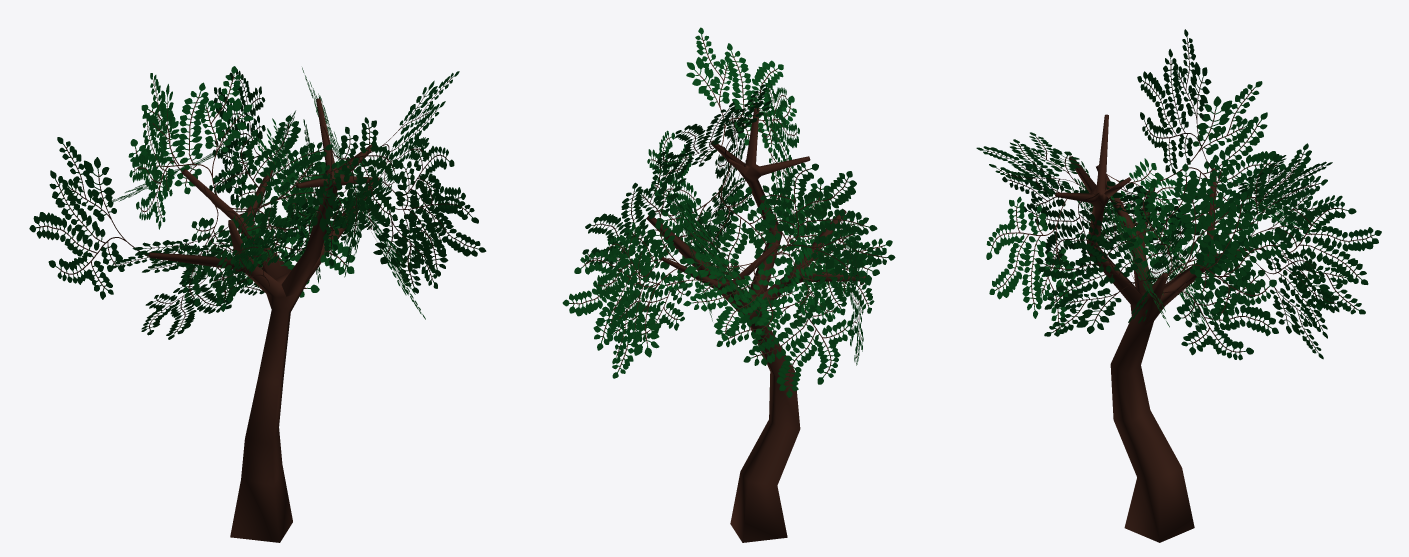
The model's file is LOD1_Oak_Tree.fbx.
3 views of the same model, side by side, from view 1: azimuth 30°, elevation 25°; view 2: azimuth 150°, elevation 25°; view 3: azimuth 270°, elevation 25° (orthographic). The views are drawn at different scales.
Visible parts, largest first — view 1: Oak_Tree; view 2: Oak_Tree; view 3: Oak_Tree.
Boxes of the visible parts, x1,y1,x2,y2 form: Oak_Tree: [29, 66, 486, 542]; Oak_Tree: [562, 27, 895, 542]; Oak_Tree: [976, 29, 1381, 542].
Bounding box in the file's own units: 487 × 736 × 596.
2 materials, 1 textured.
